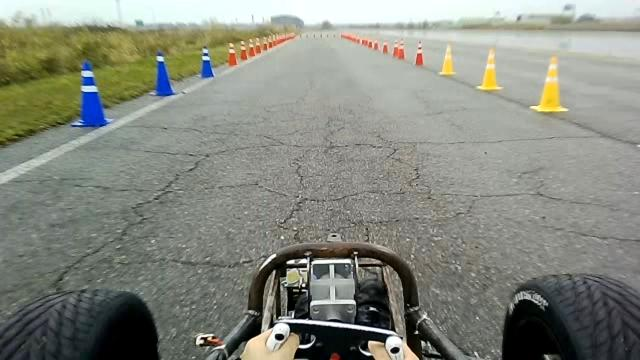blue cone: (70, 60, 112, 127), (148, 50, 176, 96), (198, 45, 214, 79)
red cone: (413, 39, 428, 68), (226, 36, 237, 73), (238, 39, 246, 63)
yellow cone: (529, 55, 569, 113), (476, 48, 503, 91), (438, 43, 456, 76)
